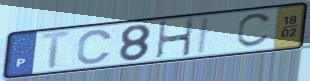8: (119, 23, 153, 62)
C: (234, 11, 275, 50), (75, 28, 115, 66)
H: (155, 17, 195, 60)
I: (196, 15, 213, 55)
T: (38, 29, 76, 72)
